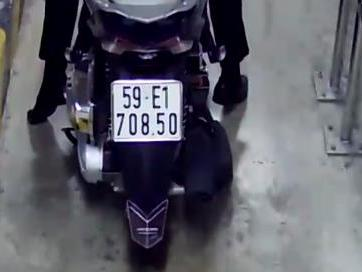num_plate: (110, 80, 186, 142)
